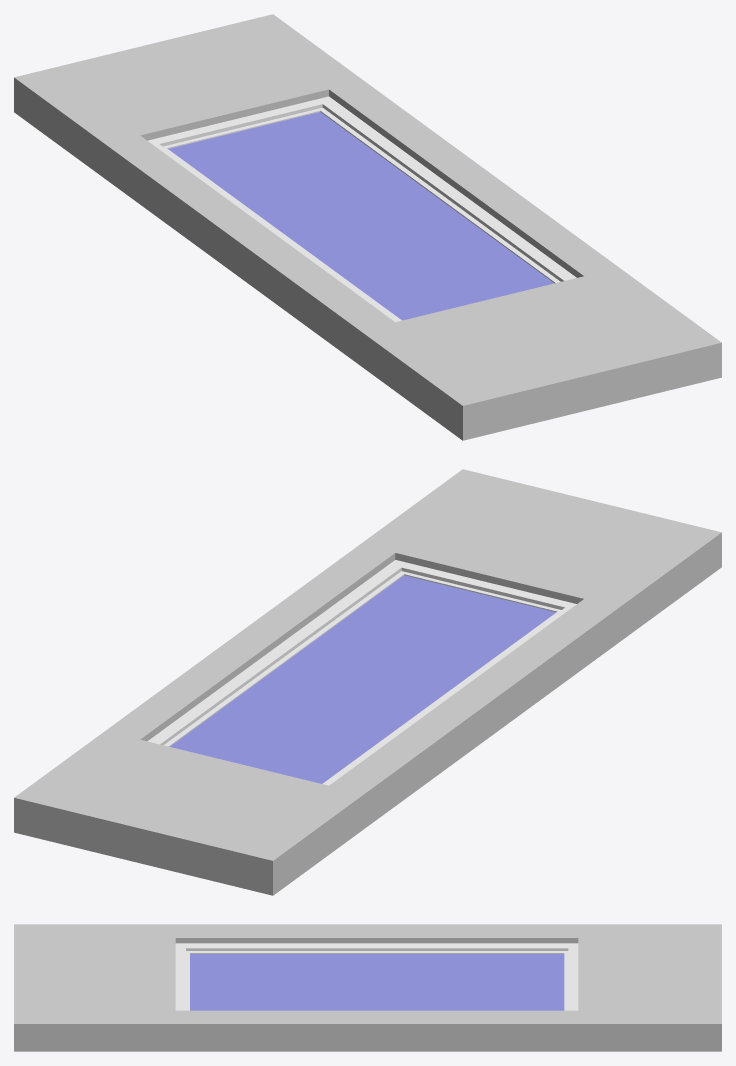
File: Window01.gltf
The picture shows the model from 3 angles, top to bottom: view 1: azimuth 30°, elevation 25°; view 2: azimuth 150°, elevation 25°; view 3: azimuth 270°, elevation 25°; orthographic projection. The views are drawn at different scales.
Parts seen in each view (by area): view 1: SIP, Glass, WindowFrame, WindowSeal; view 2: SIP, Glass, WindowFrame, WindowSeal; view 3: SIP, Glass, WindowFrame, WindowSeal.
Part boxes in pixels (left/top/right/bottom): SIP: left=14, top=14, right=721, bottom=440; Glass: left=168, top=112, right=554, bottom=320; WindowFrame: left=148, top=96, right=576, bottom=322; WindowSeal: left=163, top=107, right=560, bottom=320; SIP: left=14, top=469, right=721, bottom=895; Glass: left=170, top=575, right=555, bottom=783; WindowFrame: left=147, top=560, right=576, bottom=785; WindowSeal: left=164, top=571, right=561, bottom=784; SIP: left=14, top=924, right=721, bottom=1051; Glass: left=190, top=954, right=564, bottom=1010; WindowFrame: left=175, top=943, right=578, bottom=1010; WindowSeal: left=186, top=951, right=568, bottom=1010.
Size of the model in its own units: 1.17 by 0.15 by 3.5.
